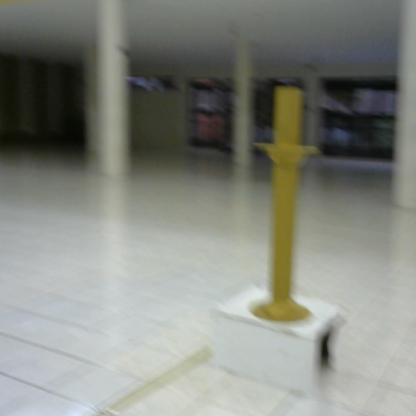pole: (249, 84, 319, 328)
